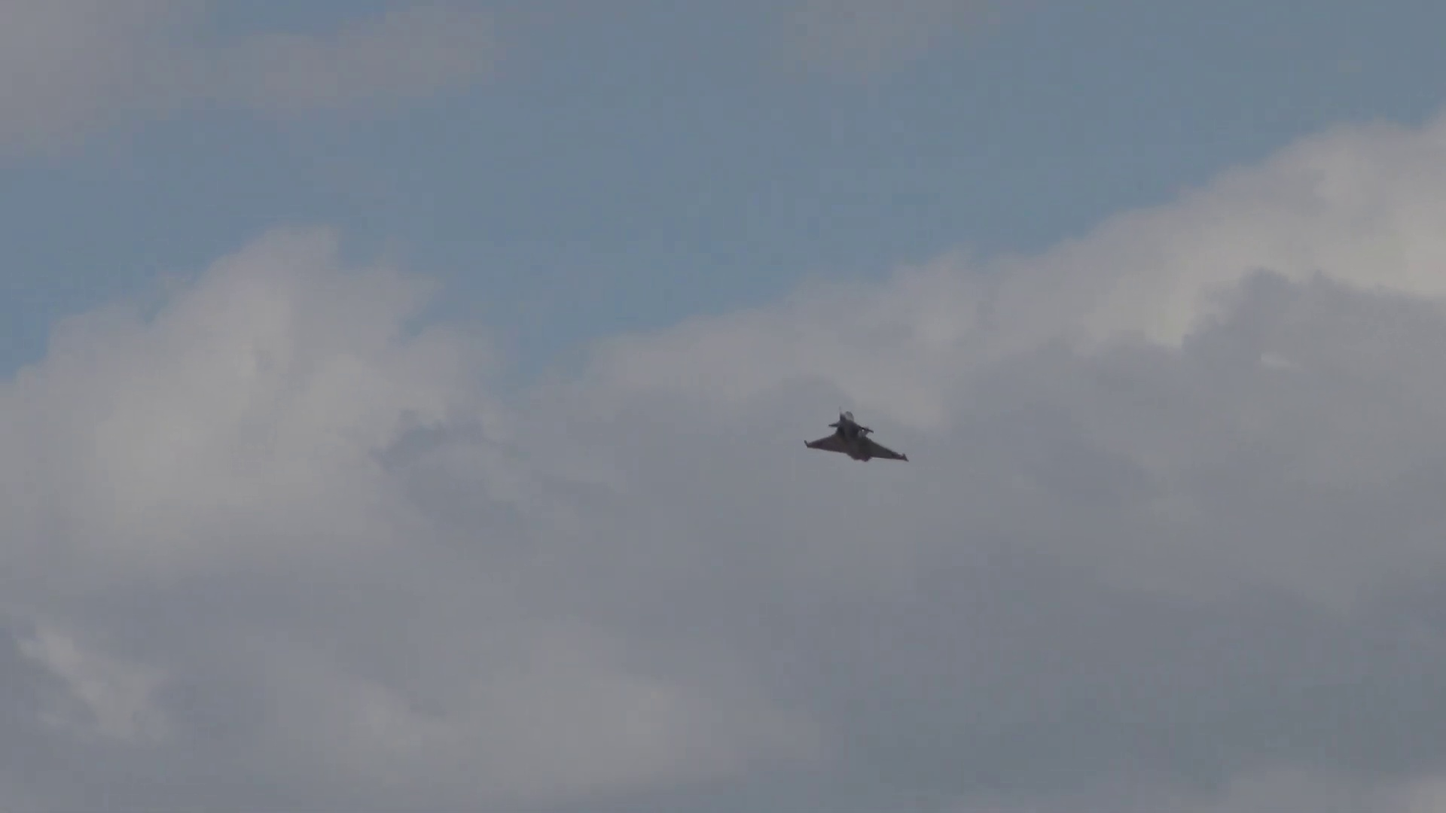Rafale: (805, 407, 912, 464)
